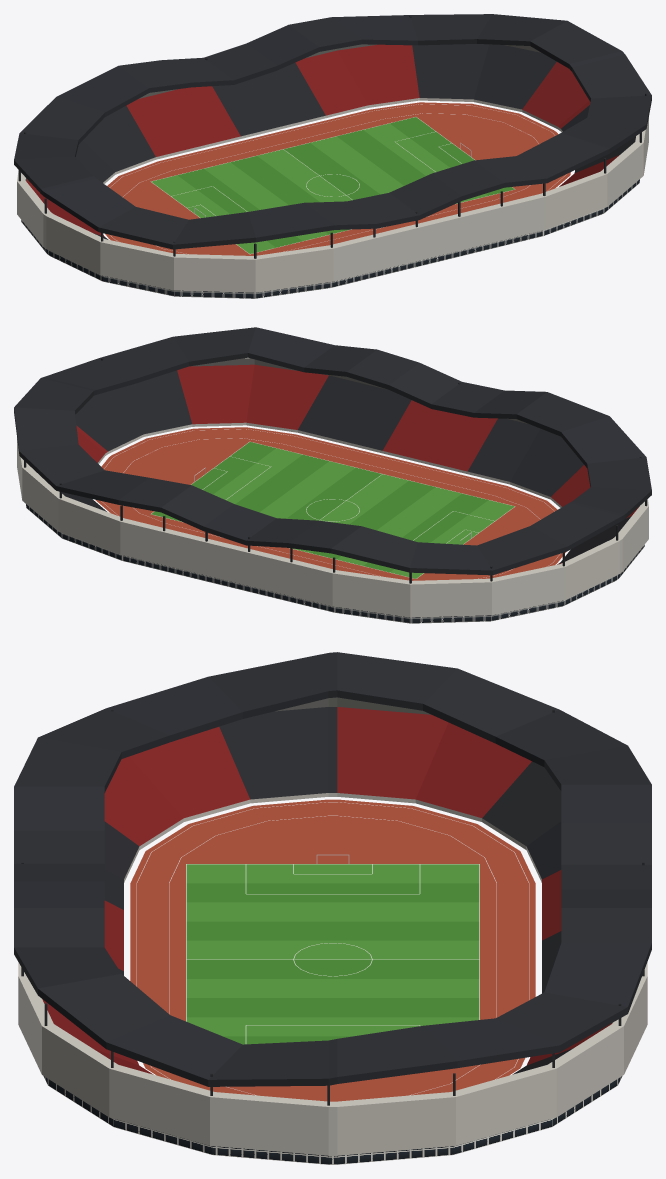
File: stade_letzigrund.glb
The picture shows the model from 3 angles, top to bottom: view 1: azimuth 30°, elevation 25°; view 2: azimuth 150°, elevation 25°; view 3: azimuth 270°, elevation 25°; orthographic projection. The views are drawn at different scales.
Visible parts, largest first — view 1: stade_letzigrund; view 2: stade_letzigrund; view 3: stade_letzigrund.
Part boxes in pixels (box(x1,y1,x2,y2)): stade_letzigrund: box(14, 14, 651, 298); stade_letzigrund: box(14, 327, 651, 623); stade_letzigrund: box(14, 652, 651, 1164).
Size of the model in its own units: 230 by 25.3 by 148.
Materials: 2 (2 with a texture image).
